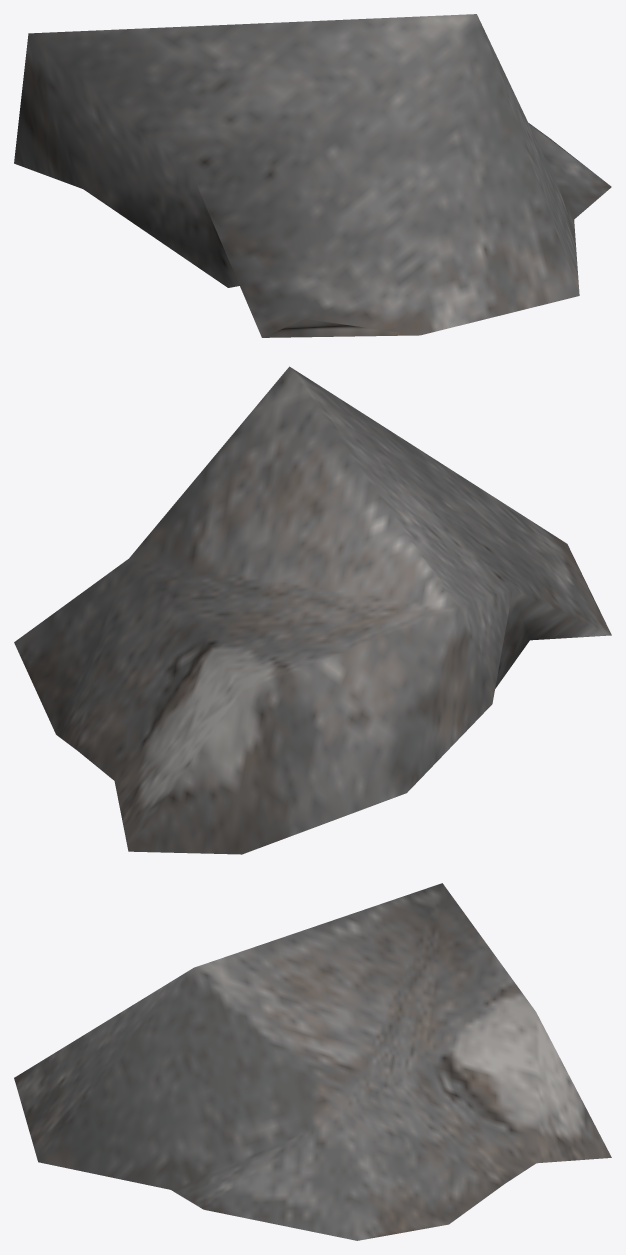
File: forest_rock_3.glb
3 renders of one model, top to bottom at view 1: azimuth 30°, elevation 25°; view 2: azimuth 150°, elevation 25°; view 3: azimuth 270°, elevation 25°, orthographic. The views are drawn at different scales.
Visible parts, largest first — view 1: Rocks.003_Rocks_0; view 2: Rocks.003_Rocks_0; view 3: Rocks.003_Rocks_0.
Boxes of the visible parts, x1,y1,x2,y2 form: Rocks.003_Rocks_0: [14, 14, 611, 337]; Rocks.003_Rocks_0: [14, 366, 611, 854]; Rocks.003_Rocks_0: [14, 883, 611, 1240].
Bounding box in the file's own units: 1.33 × 0.7077 × 1.69.
Materials: 1 (1 with a texture image).
